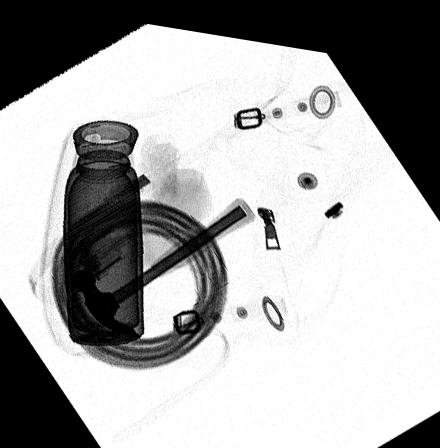Hammer: (67, 189, 256, 334)
